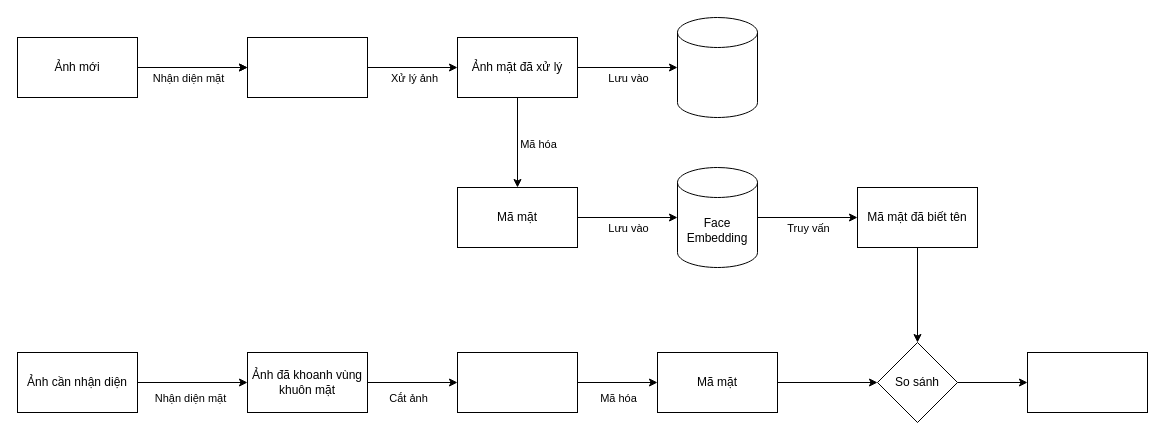
The diagram is 1165 pixels wide and 440 high, and some of its shapes have lost their labels. Here are the shapes that lost their labels. From the top down, the centre of each, then its label:
[307,67]: Ảnh mặt
[717,67]: Face Storage
[517,382]: Ảnh từng mặt
[1087,382]: Ảnh mặt đã gắn tẽn
